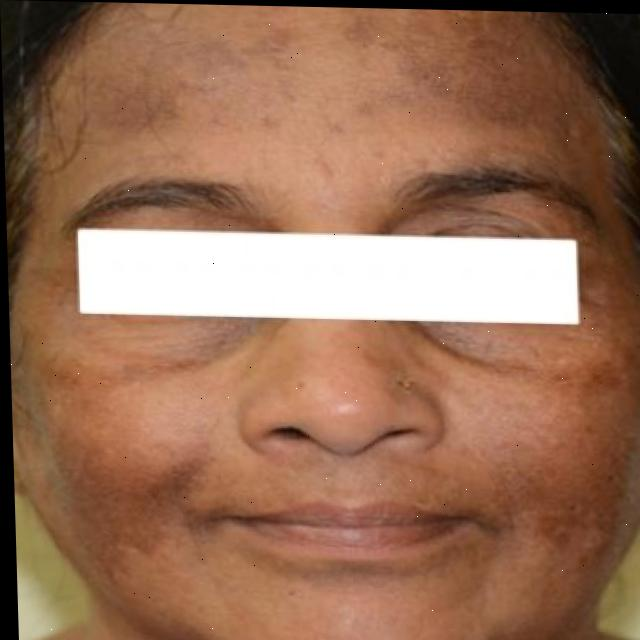Melasma: (497, 41, 640, 596), (15, 351, 212, 597)
